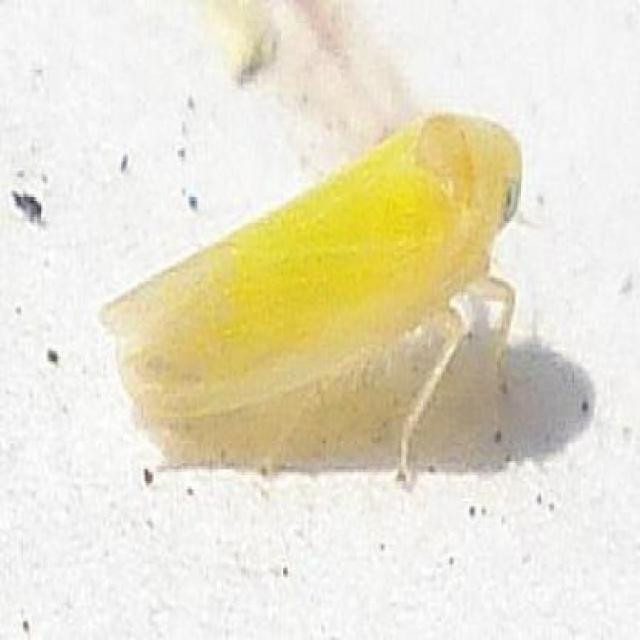green-leafhopper: (99, 94, 523, 491)
